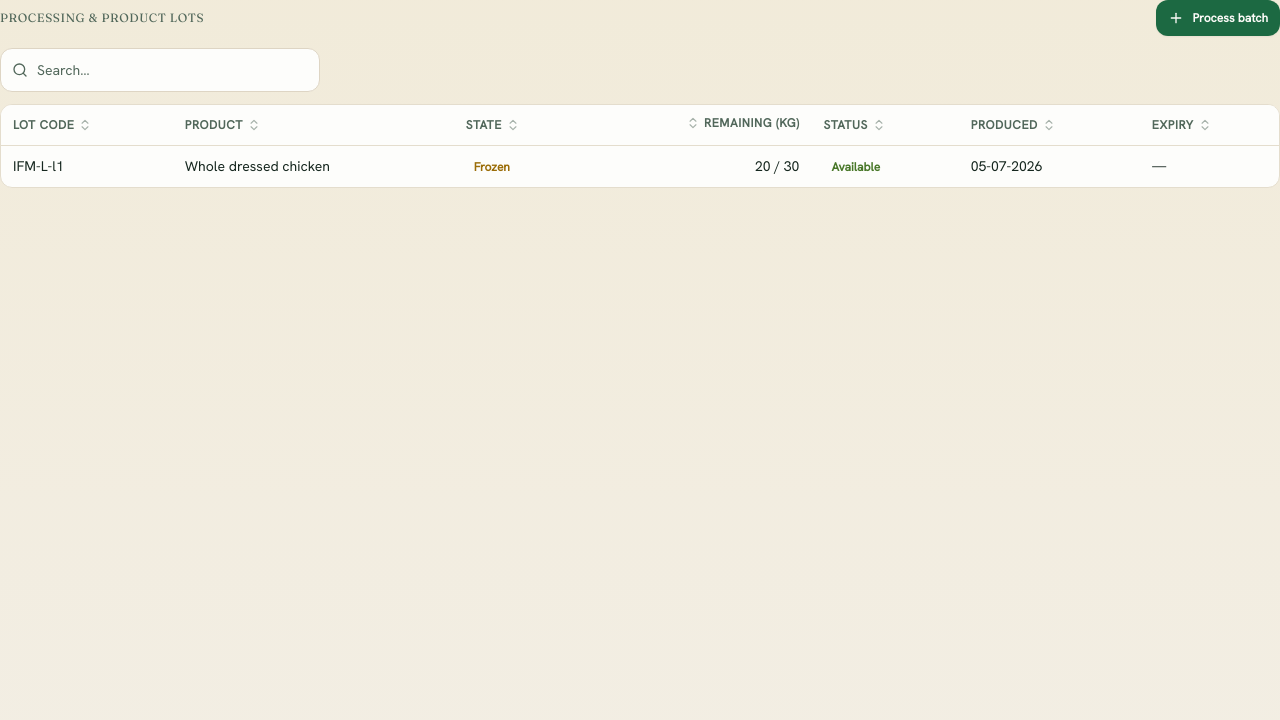
Scenario: ProcessingPanel › creates a processing run (POST body has source batch + output lots)
Expected: the text "IFM-L-l1" is shown, [13,157,64,175]
Click the button "Process batch": (1218, 18) [1156,0,1279,36]
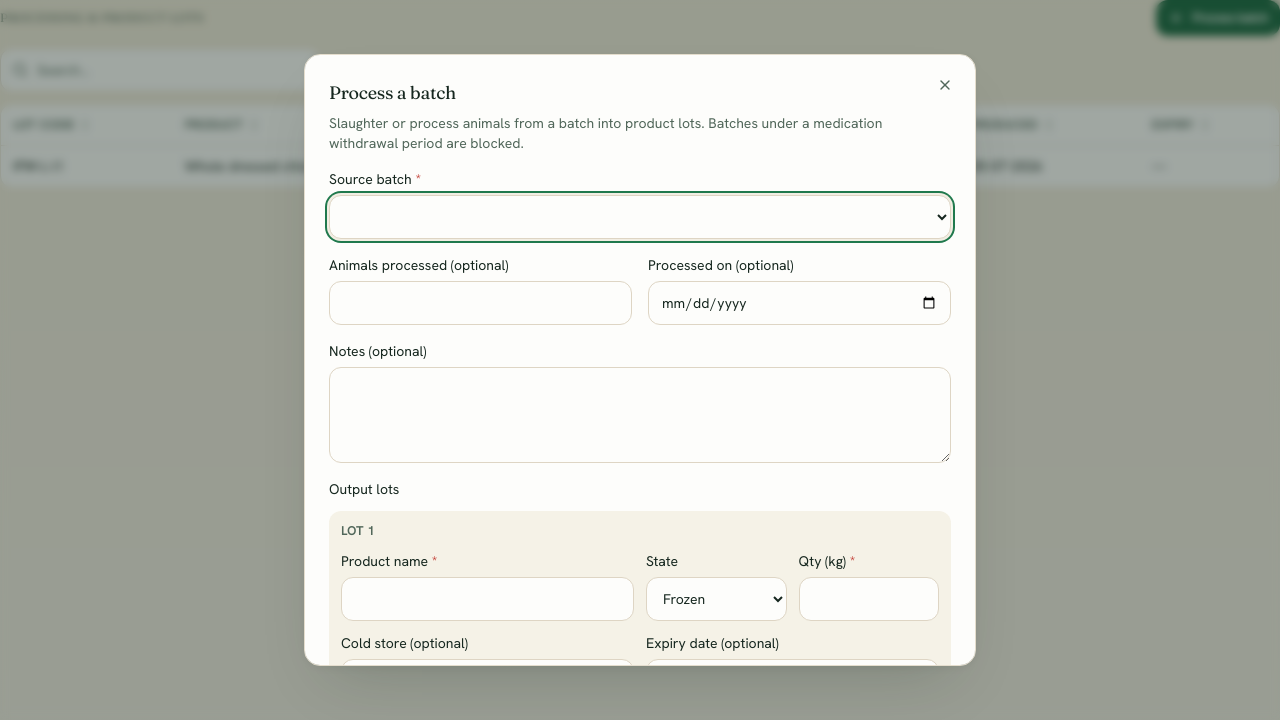
Select "B-001 · Chicken (Broiler) · 100 live" in the dropdown labelled "Source batch *": (640, 217) [329,195,951,239]
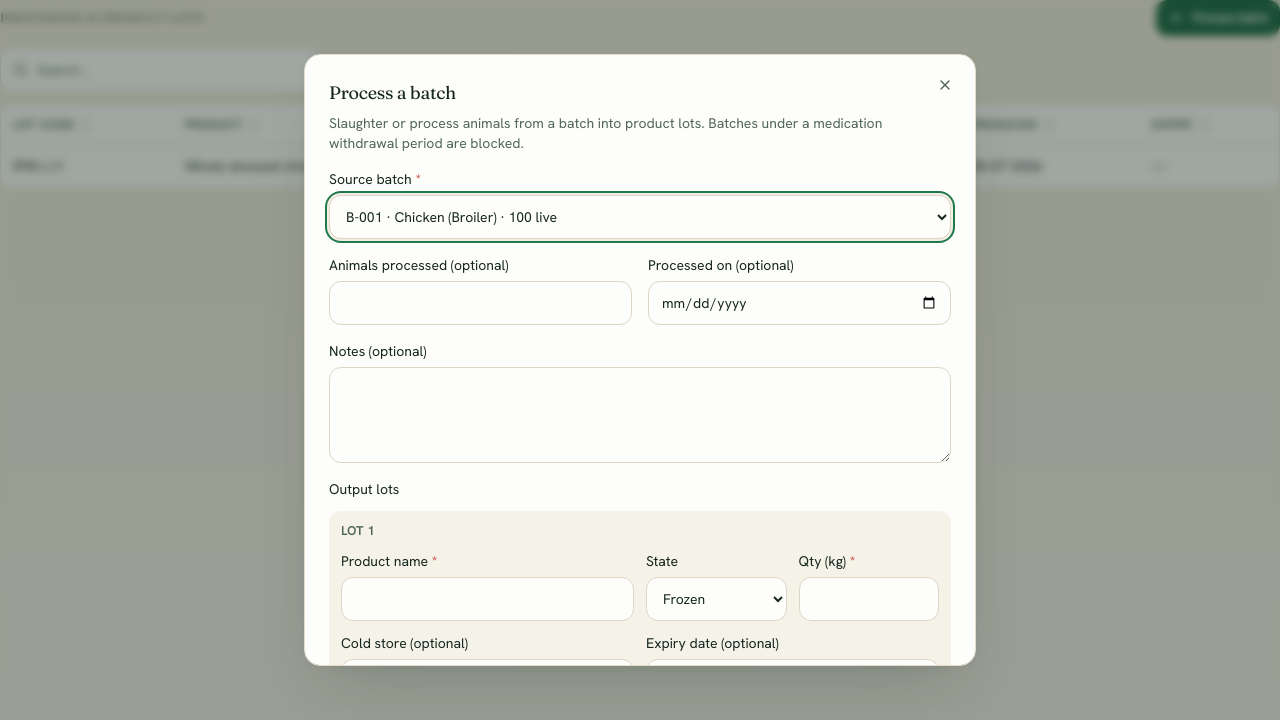
In the field labelled "Product name *": (488, 599) [341,577,634,621], type "Chicken curry cut"
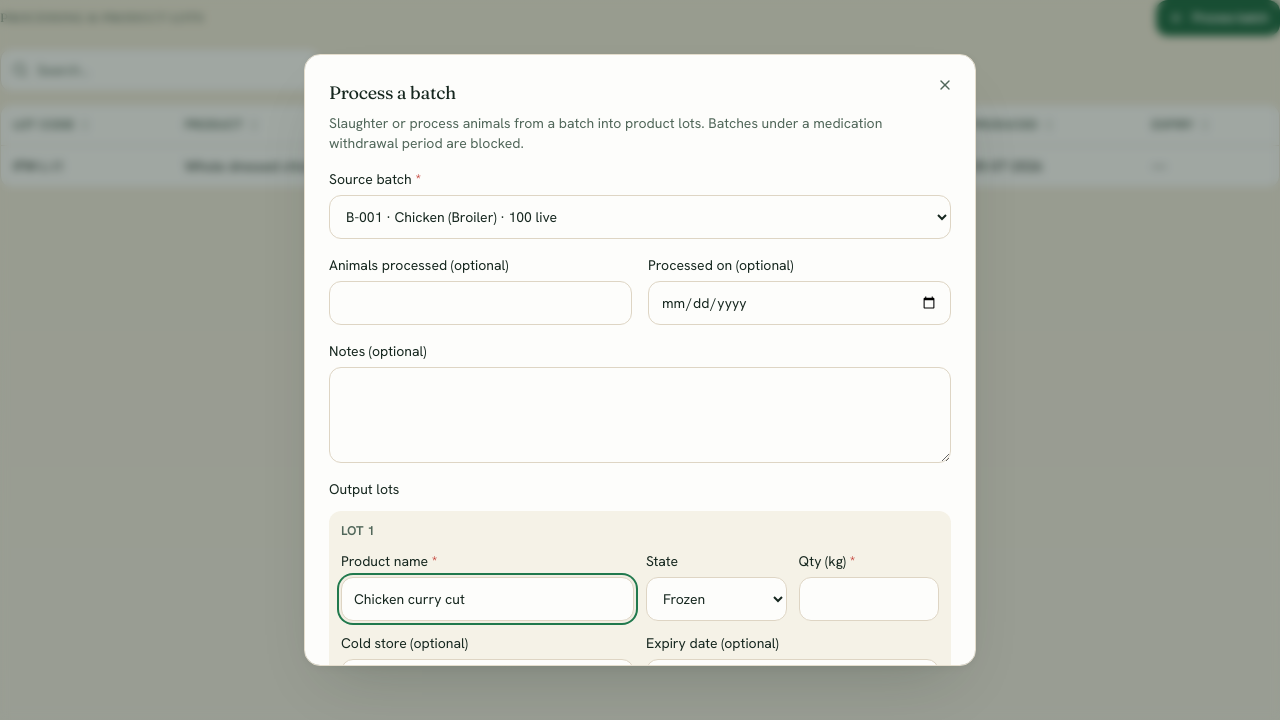
In the number field labelled "Qty (kg) *": (869, 599) [798,577,939,621], type "12"
(page scrolled)
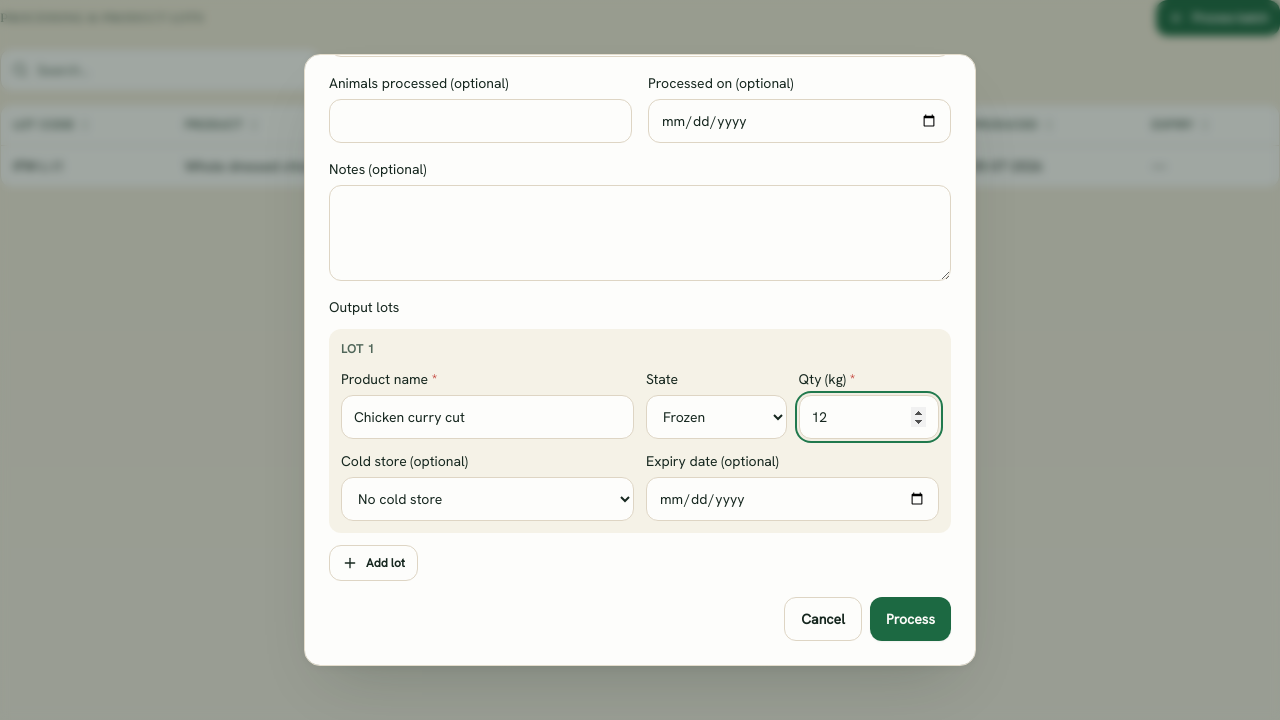
Click the button "Process": (910, 619) [870,597,951,641]
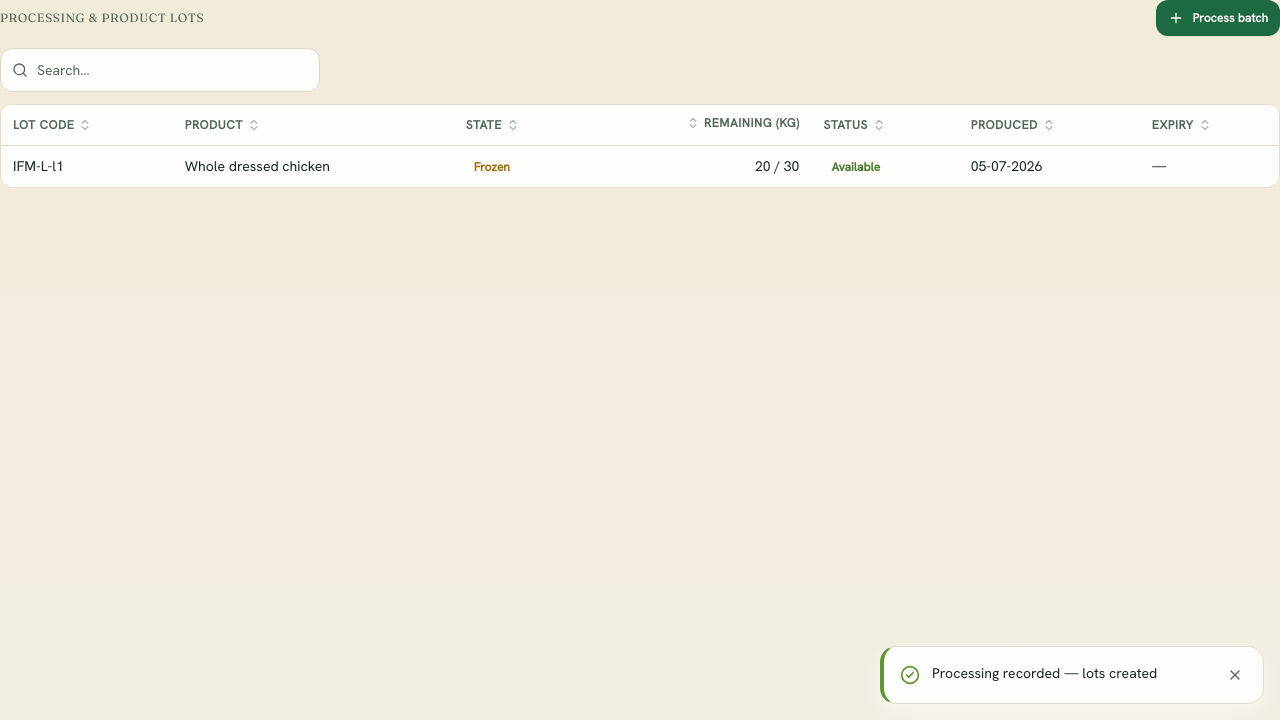
Expected: the text "Processing recorded — lots created" is shown, [932,664,1157,682]
